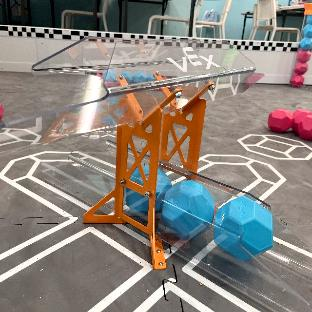Goal: (2, 35, 261, 159)
V5_BLUE: (213, 196, 273, 259), (162, 180, 214, 236), (299, 15, 312, 49)
V5_RED: (268, 108, 312, 139), (292, 49, 312, 85)
